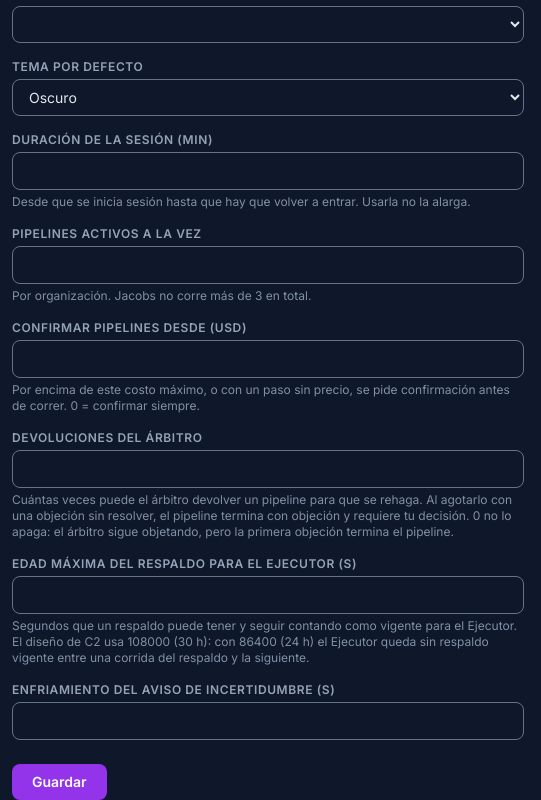
Test: AdminSettings -- los errores del guardado se ven › una collation desconocida se nombra
(page scrolled)
Step 1. Click the button "Guardar" → point(59, 782), box [12,764,107,799]
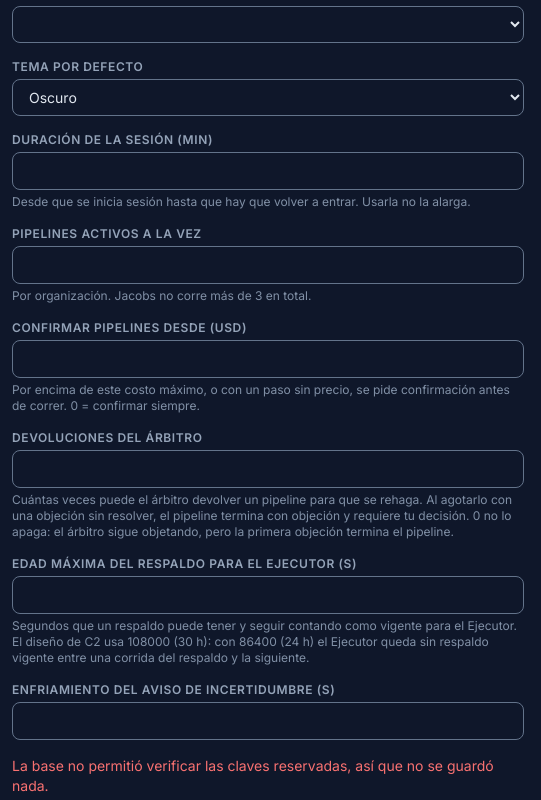
Result: the message reads "La base no permitió verificar las claves reservadas, así que no se guardó nada." at [12,757,494,794]
